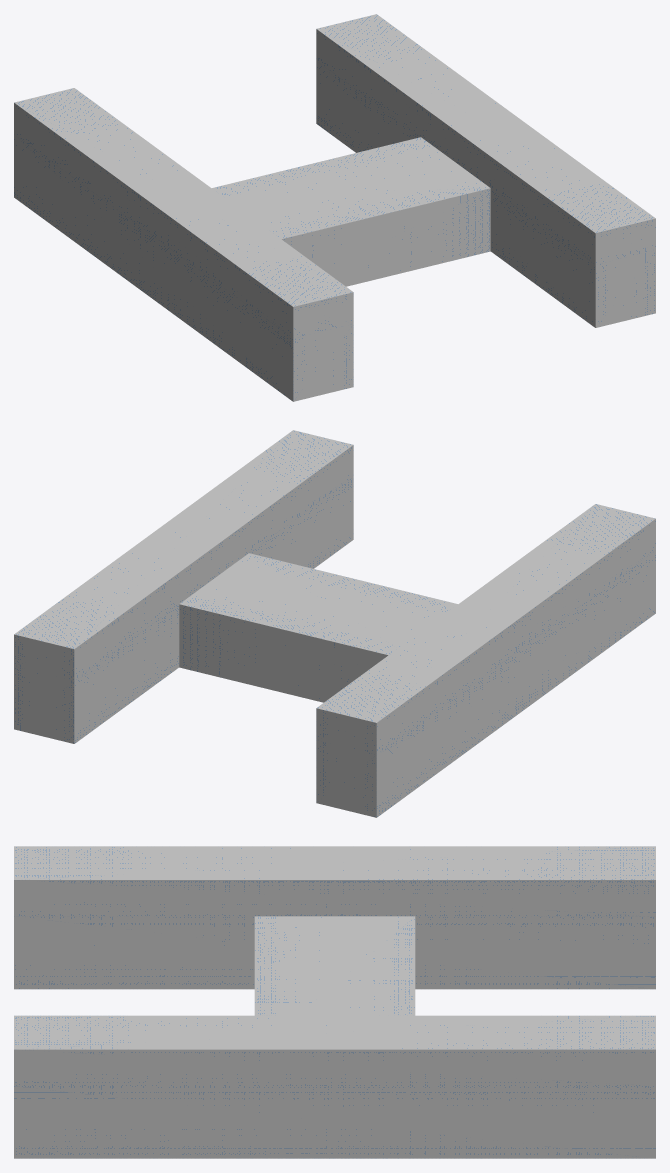
File: train-trail.fbx
The picture shows the model from 3 angles, top to bottom: view 1: azimuth 30°, elevation 25°; view 2: azimuth 150°, elevation 25°; view 3: azimuth 270°, elevation 25°; orthographic projection. The views are drawn at different scales.
Parts seen in each view (by area): view 1: generated; view 2: generated; view 3: generated.
Part boxes in pixels (left/top/right/bottom): generated: left=14, top=14, right=655, bottom=401; generated: left=14, top=430, right=655, bottom=817; generated: left=14, top=846, right=655, bottom=1158.
Bounding box in the file's own units: 60 × 15 × 80.
Materials: 1 (1 with a texture image).
